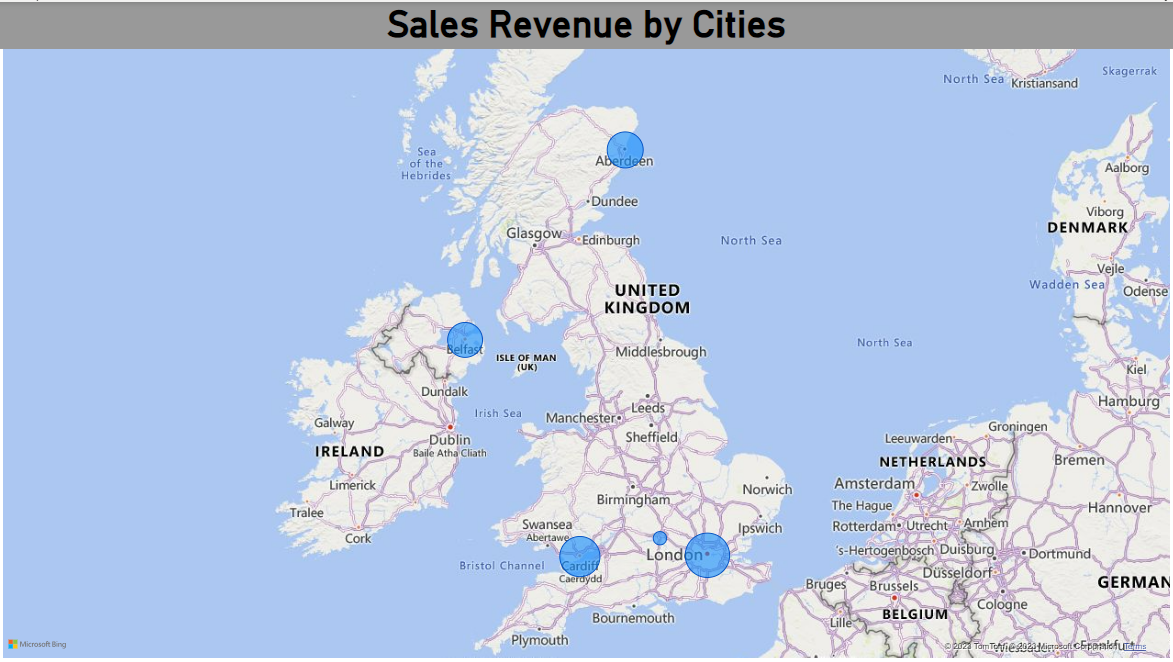

The dashboard page shown, as its layout file describes it:
{"tool":"powerbi","page":{"name":"Page 2","canvas":[1280,720],"ordinal":1},"visuals":[{"type":"map","title":"Sales Revenue by Cities","fields":{"Category":["Sheet1.City"],"Size":["Sum(Sheet1.Total Price )"]},"box":[0,0,1280.6,719.3],"z":0}]}

Visuals, with their boxes in screenshot pixels (x1, y1, x2, y2), scaled from the page's 1280x720 canvas onto the 1173x662 screenshot:
"Sales Revenue by Cities" map: (left=0, top=0, right=1172, bottom=661)
